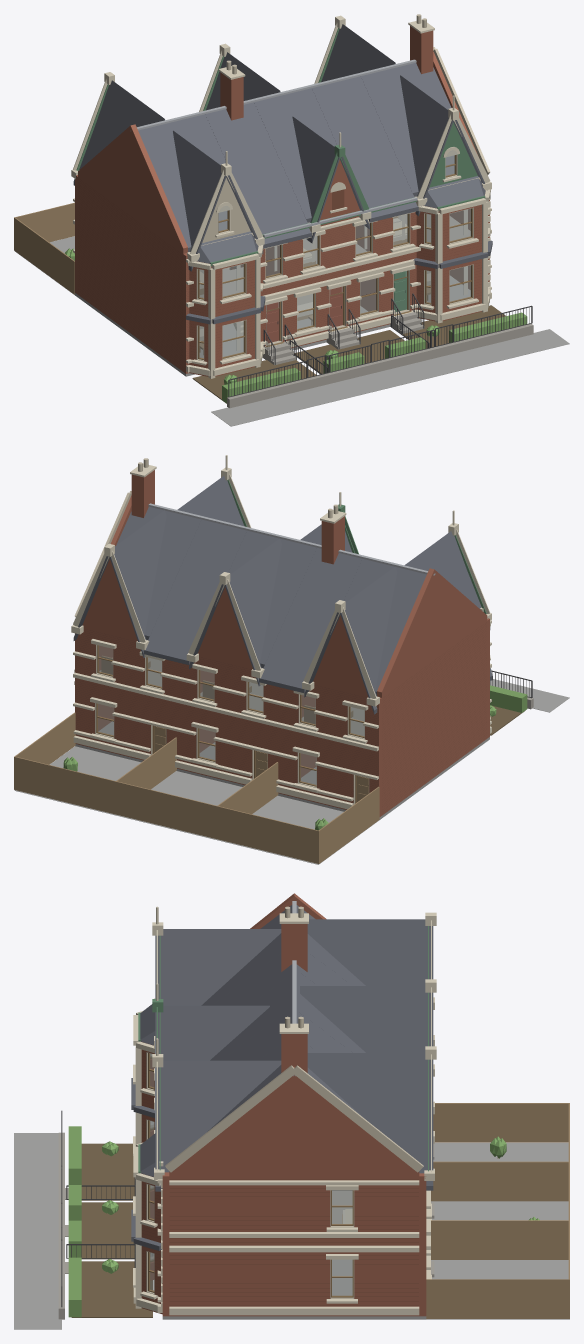
Rendered from clay-queen-anne-rowhouse-trio-clay-v005.glb.
3 views of the same model, one above another, from view 1: azimuth 30°, elevation 25°; view 2: azimuth 150°, elevation 25°; view 3: azimuth 270°, elevation 25° (orthographic). The views are drawn at different scales.
Parts seen in each view (by area): view 1: CLAY_ROOF, CLAY_WALL, CLAY_PALE, CLAY_FOUNDATION, CLAY_GLASS, CLAY_STONE, CLAY_HARDWARE, CLAY_SAND, CLAY_SOIL, CLAY_TIMBER, CLAY_PLANTING, CLAY_GREEN (+6 smaller); view 2: CLAY_WALL, CLAY_ROOF, CLAY_TIMBER, CLAY_PALE, CLAY_FOUNDATION, CLAY_GLASS, CLAY_JOINT, CLAY_SAND, CLAY_TRIM, CLAY_LEAD, CLAY_PLANTING, CLAY_FLOOR (+1 smaller); view 3: CLAY_ROOF, CLAY_WALL, CLAY_TIMBER, CLAY_FOUNDATION, CLAY_PALE, CLAY_SOIL, CLAY_JOINT, CLAY_SAND, CLAY_PLANTING, CLAY_GLASS, CLAY_STONE, CLAY_HARDWARE (+3 smaller).
Part boxes in pixels (box(x1,y1,x2,y2)): CLAY_ROOF: box(73, 24, 492, 324); CLAY_WALL: box(75, 26, 489, 376); CLAY_PALE: box(71, 15, 491, 378); CLAY_FOUNDATION: box(15, 236, 569, 426); CLAY_GLASS: box(199, 150, 470, 358); CLAY_STONE: box(227, 312, 533, 408); CLAY_HARDWARE: box(228, 266, 532, 397); CLAY_SAND: box(196, 14, 490, 361); CLAY_SOIL: box(192, 305, 505, 403); CLAY_TIMBER: box(14, 202, 433, 349); CLAY_PLANTING: box(65, 248, 527, 403); CLAY_GREEN: box(76, 28, 485, 266); CLAY_WALL: box(75, 470, 489, 816); CLAY_ROOF: box(73, 476, 492, 714); CLAY_TIMBER: box(14, 655, 379, 863); CLAY_PALE: box(71, 455, 491, 809); CLAY_FOUNDATION: box(14, 679, 569, 864); CLAY_GLASS: box(98, 645, 364, 784); CLAY_JOINT: box(75, 622, 486, 809); CLAY_SAND: box(74, 458, 369, 804); CLAY_TRIM: box(96, 645, 364, 803); CLAY_LEAD: box(148, 503, 435, 575); CLAY_PLANTING: box(63, 685, 527, 830); CLAY_FLOOR: box(99, 640, 364, 735); CLAY_ROOF: box(131, 905, 433, 1250); CLAY_WALL: box(141, 893, 426, 1316); CLAY_TIMBER: box(342, 1103, 569, 1318); CLAY_FOUNDATION: box(14, 1133, 569, 1329); CLAY_PALE: box(133, 906, 436, 1315); CLAY_SOIL: box(71, 1143, 152, 1317); CLAY_JOINT: box(142, 1053, 418, 1313); CLAY_SAND: box(146, 906, 423, 1298); CLAY_PLANTING: box(68, 1126, 539, 1317); CLAY_GLASS: box(150, 1053, 352, 1295); CLAY_STONE: box(58, 1132, 434, 1319); CLAY_HARDWARE: box(61, 1110, 135, 1307).
Size of the model in its own units: 19.4 by 13.55 by 23.2.
